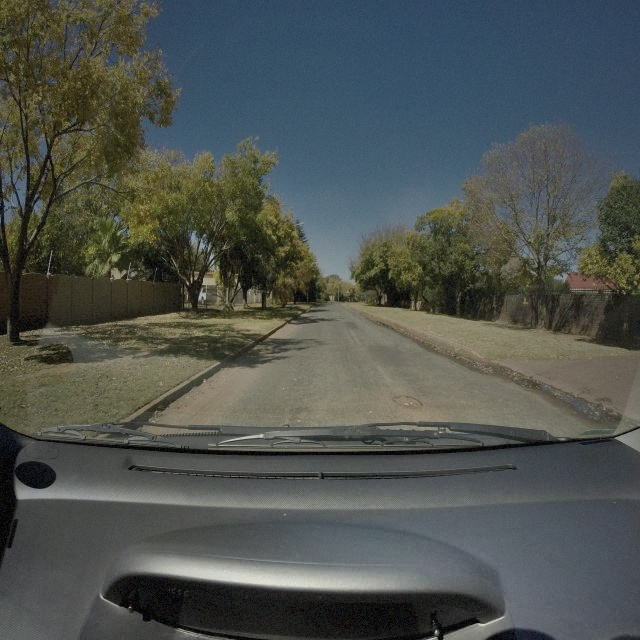pothole: (392, 392, 425, 413)
